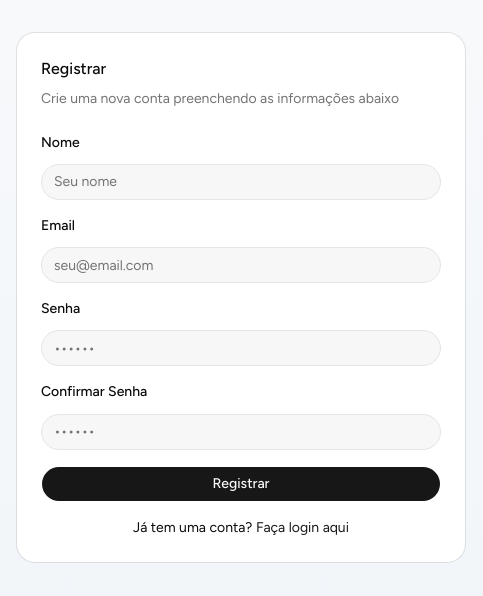
Scenario: RegisterPage › shows validation error when name is too short
In the field with id "form-rhf-input-name": (241, 182) 41,164 -> 441,200, type "A"
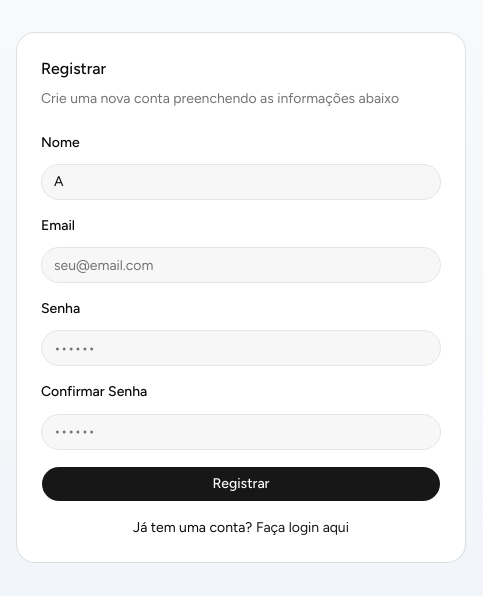
In the field with id "form-rhf-input-email": (241, 265) 41,247 -> 441,283, type "test@example.com"
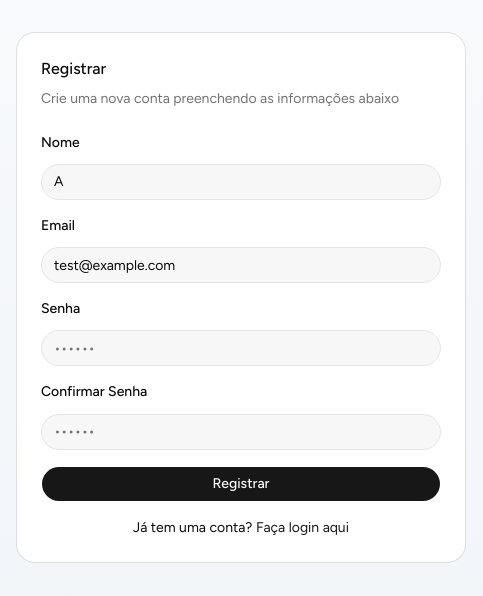
In the password field with id "form-rhf-input-password": (241, 348) 41,330 -> 441,366, type "senha12345"
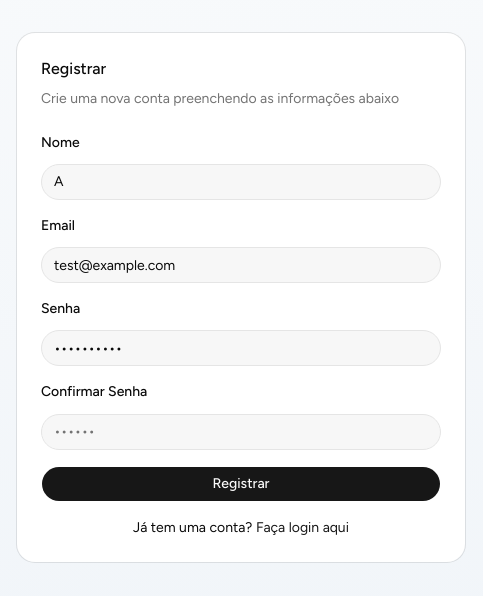
In the password field with id "form-rhf-input-password-confirmation": (241, 432) 41,414 -> 441,450, type "senha12345"
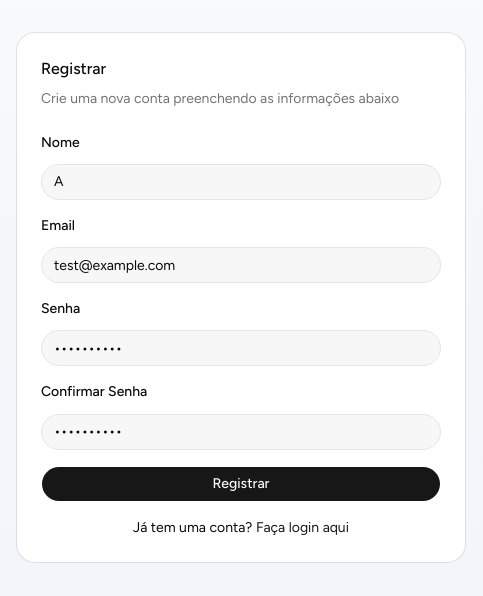
Click the button "Registrar": (241, 484) 41,466 -> 441,502
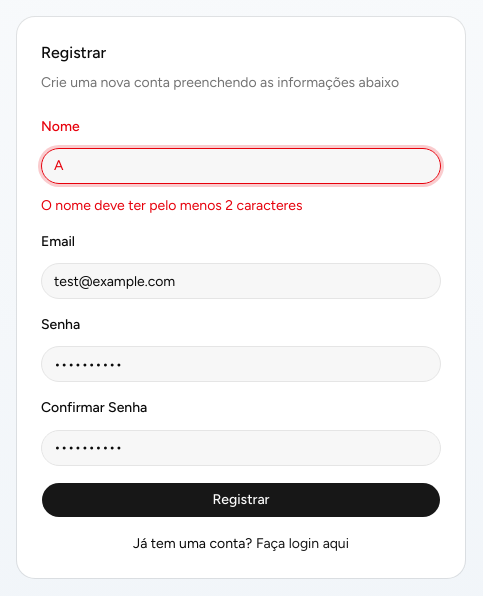
Check: the text "O nome deve ter pelo menos 2 caracteres" is shown, box 41,197 -> 302,214
